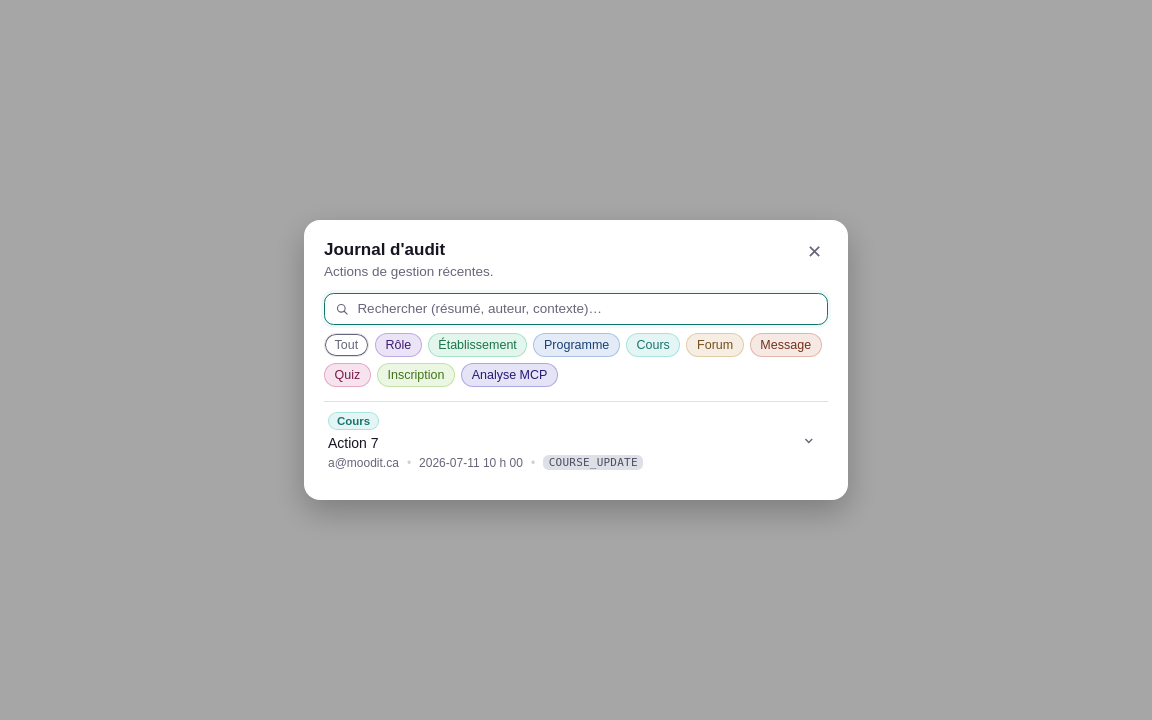
AuditLogsPopup › une entrée sans contexte n’affiche que l’identifiant (pas de message)
Expected: the text "Action 7" is shown, [328,435,379,451]
Click the button "Action 7" at point(354, 421), box [320,402,824,480]
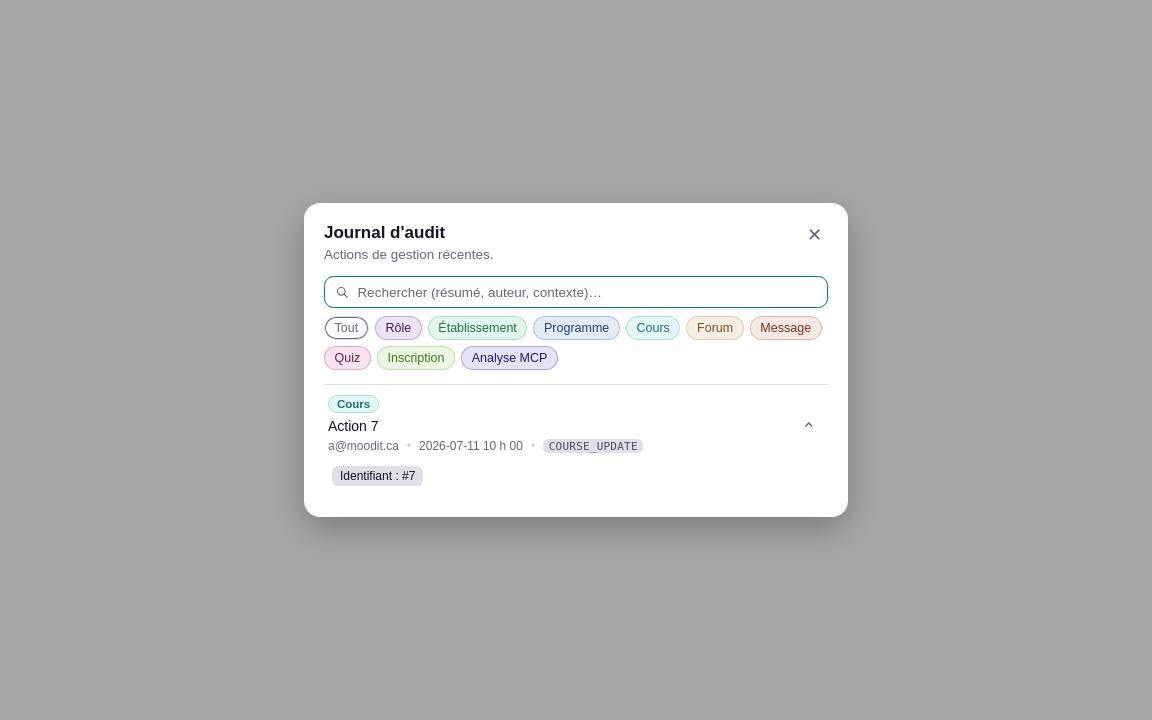
Expected: the text "Identifiant : #7" is shown, [332,466,423,486]
